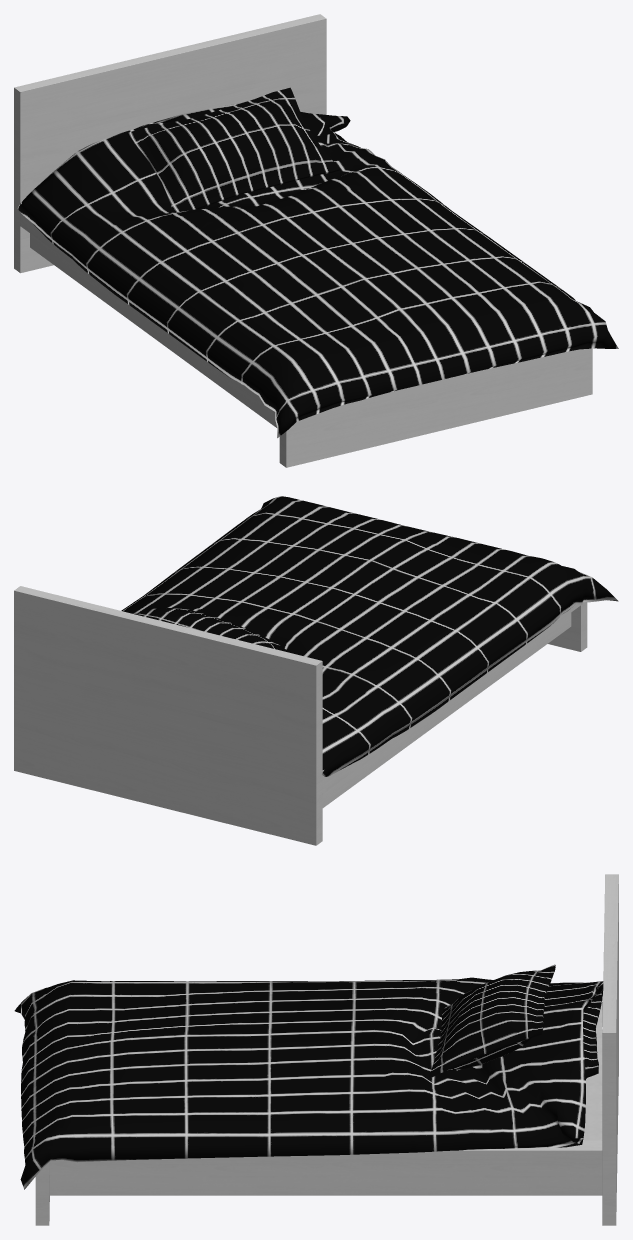
The model's file is Bed_Single_Wide.gltf.
3 views of the same model, one above another, from view 1: azimuth 30°, elevation 25°; view 2: azimuth 150°, elevation 25°; view 3: azimuth 270°, elevation 25° (orthographic). The views are drawn at different scales.
Visible parts, largest first — view 1: Blanket, bed_Wide_single_frame, bed_Wide_single_pillow1; view 2: bed_Wide_single_frame, Blanket, bed_Wide_single_pillow1; view 3: Blanket, bed_Wide_single_frame, bed_Wide_single_pillow1, bed_Wide_single_matress.
Part boxes in pixels (x1,y1,x2,y2): Blanket: (17, 103, 618, 437); bed_Wide_single_frame: (14, 14, 592, 467); bed_Wide_single_pillow1: (127, 87, 340, 212); bed_Wide_single_frame: (14, 586, 587, 845); Blanket: (121, 496, 618, 776); bed_Wide_single_pillow1: (133, 608, 289, 652); Blanket: (14, 977, 603, 1189); bed_Wide_single_frame: (35, 874, 618, 1225); bed_Wide_single_pillow1: (429, 964, 602, 1078); bed_Wide_single_matress: (583, 1003, 602, 1140).
Bounding box in the file's own units: 1.54 × 0.77 × 2.19.
4 materials, 4 textured.
